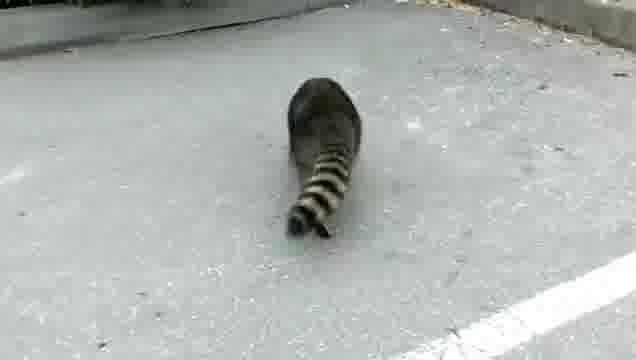raccoon: (282, 70, 370, 242)
